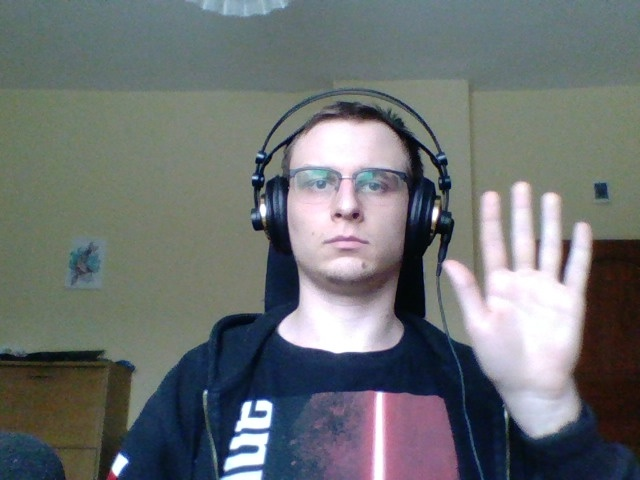hello: (439, 179, 618, 438)
